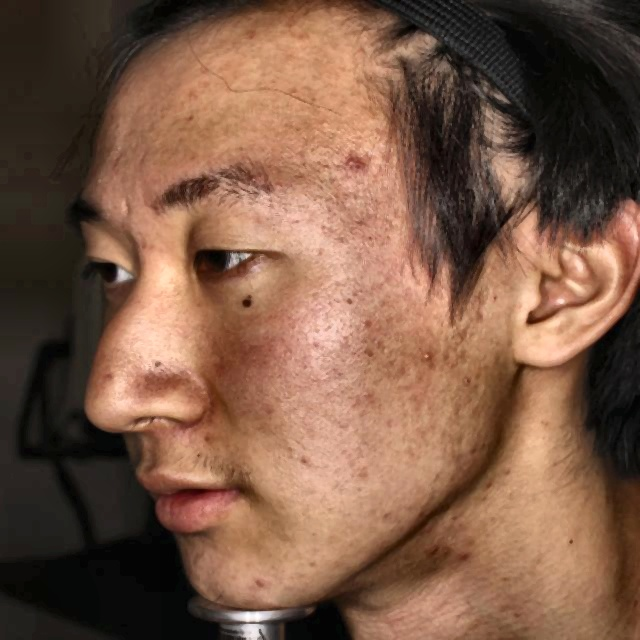comedone: (250, 569, 294, 597), (333, 150, 369, 180)
